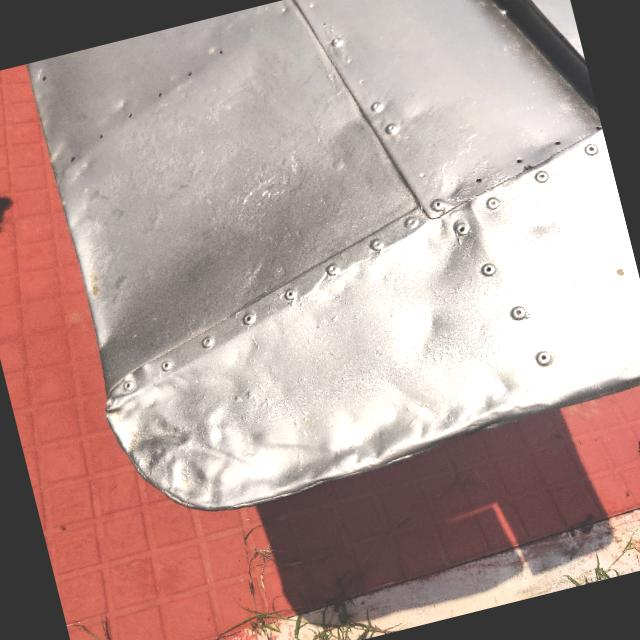dent: (251, 325, 640, 507), (86, 330, 306, 544), (402, 198, 506, 301), (374, 286, 471, 381), (502, 186, 584, 266)
